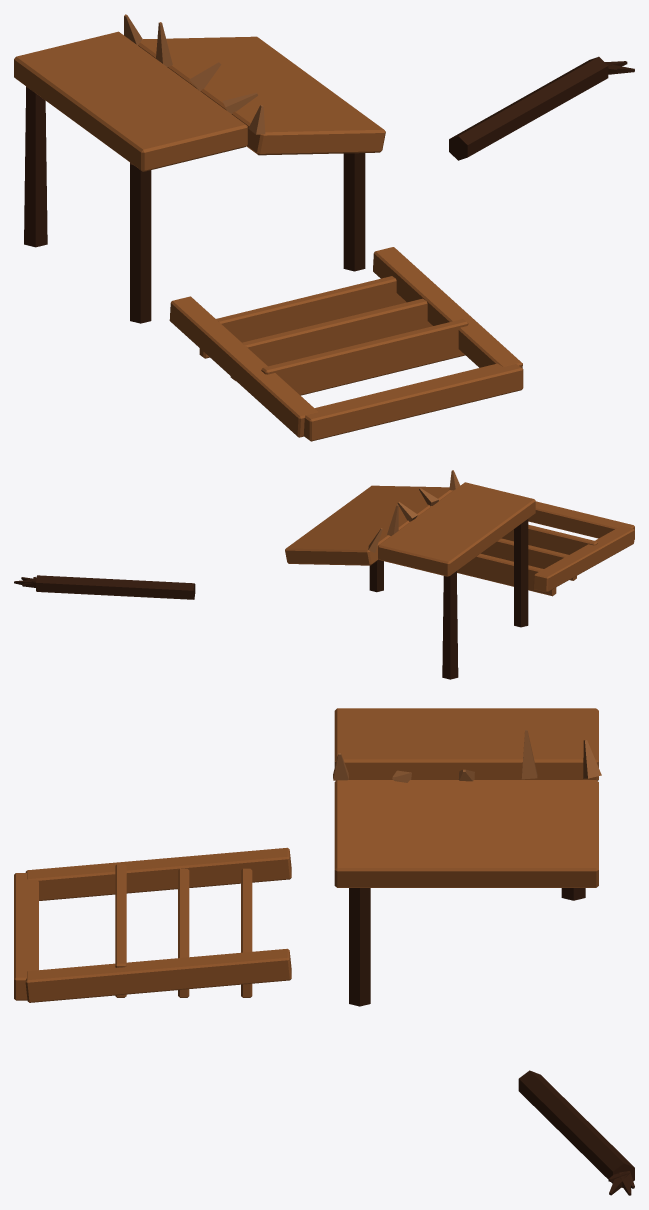
Rendered from DEBRIS_11_BrokenFurniture.obj.
3 views of the same model, one above another, from view 1: azimuth 30°, elevation 25°; view 2: azimuth 150°, elevation 25°; view 3: azimuth 270°, elevation 25° (orthographic). The views are drawn at different scales.
Parts seen in each view (by area): view 1: DEBRIS_11_BrokenFurniture_Backrest_Fallen, DEBRIS_11_BrokenFurniture_Seat_Left, DEBRIS_11_BrokenFurniture_Seat_Right, DEBRIS_11_BrokenFurniture_Legs, DEBRIS_11_BrokenFurniture_Leg_Snapped, DEBRIS_11_BrokenFurniture_Splinters; view 2: DEBRIS_11_BrokenFurniture_Seat_Left, DEBRIS_11_BrokenFurniture_Backrest_Fallen, DEBRIS_11_BrokenFurniture_Seat_Right, DEBRIS_11_BrokenFurniture_Legs, DEBRIS_11_BrokenFurniture_Leg_Snapped, DEBRIS_11_BrokenFurniture_Splinters; view 3: DEBRIS_11_BrokenFurniture_Seat_Right, DEBRIS_11_BrokenFurniture_Backrest_Fallen, DEBRIS_11_BrokenFurniture_Seat_Left, DEBRIS_11_BrokenFurniture_Leg_Snapped, DEBRIS_11_BrokenFurniture_Legs, DEBRIS_11_BrokenFurniture_Splinters.
Part boxes in pixels (<box>): DEBRIS_11_BrokenFurniture_Backrest_Fallen: <box>169,247,523,441</box>; DEBRIS_11_BrokenFurniture_Seat_Left: <box>14,31,247,171</box>; DEBRIS_11_BrokenFurniture_Seat_Right: <box>138,36,385,155</box>; DEBRIS_11_BrokenFurniture_Legs: <box>24,86,365,323</box>; DEBRIS_11_BrokenFurniture_Leg_Snapped: <box>449,56,634,160</box>; DEBRIS_11_BrokenFurniture_Splinters: <box>124,14,265,134</box>; DEBRIS_11_BrokenFurniture_Seat_Left: <box>378,482,535,576</box>; DEBRIS_11_BrokenFurniture_Backrest_Fallen: <box>457,501,634,596</box>; DEBRIS_11_BrokenFurniture_Seat_Right: <box>285,485,453,565</box>; DEBRIS_11_BrokenFurniture_Legs: <box>369,519,528,679</box>; DEBRIS_11_BrokenFurniture_Leg_Snapped: <box>14,575,195,599</box>; DEBRIS_11_BrokenFurniture_Splinters: <box>368,470,460,552</box>; DEBRIS_11_BrokenFurniture_Seat_Right: <box>334,780,598,887</box>; DEBRIS_11_BrokenFurniture_Backrest_Fallen: <box>14,847,291,1002</box>; DEBRIS_11_BrokenFurniture_Seat_Left: <box>334,708,598,780</box>; DEBRIS_11_BrokenFurniture_Leg_Snapped: <box>518,1070,634,1195</box>; DEBRIS_11_BrokenFurniture_Legs: <box>349,888,585,1006</box>; DEBRIS_11_BrokenFurniture_Splinters: <box>333,730,601,782</box>.
Size of the model in its own units: 1.18 by 0.3797 by 0.9875.
